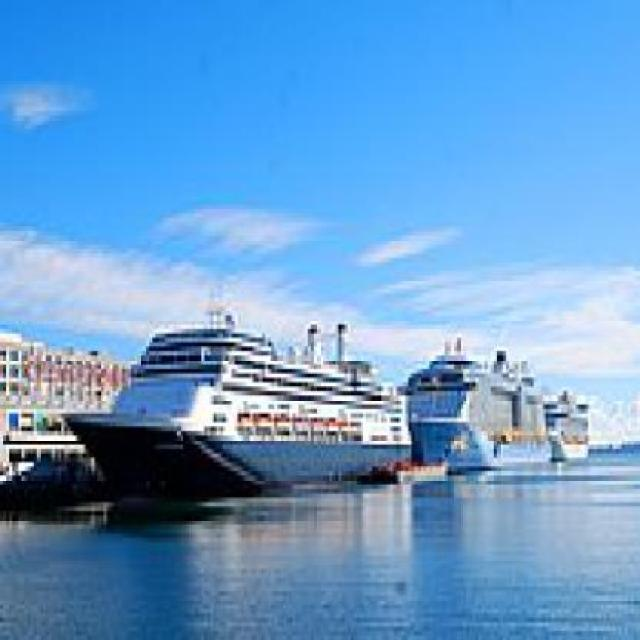cruise: (53, 299, 422, 521), (394, 326, 571, 495)
